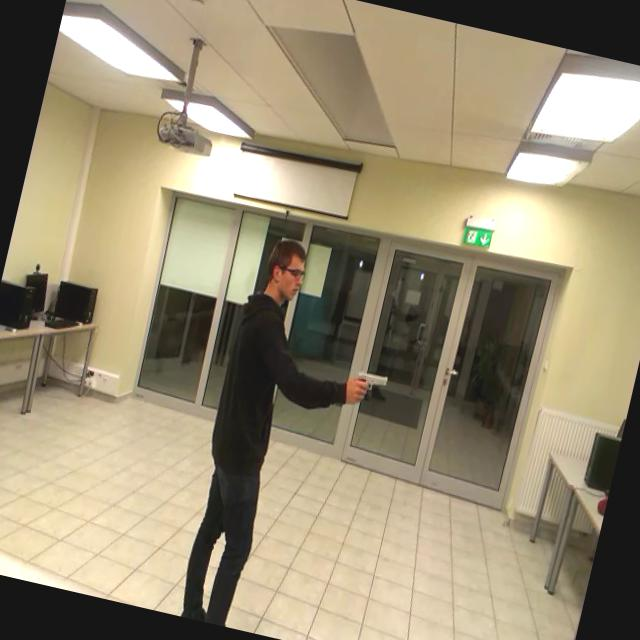handgun: (342, 354, 394, 424)
